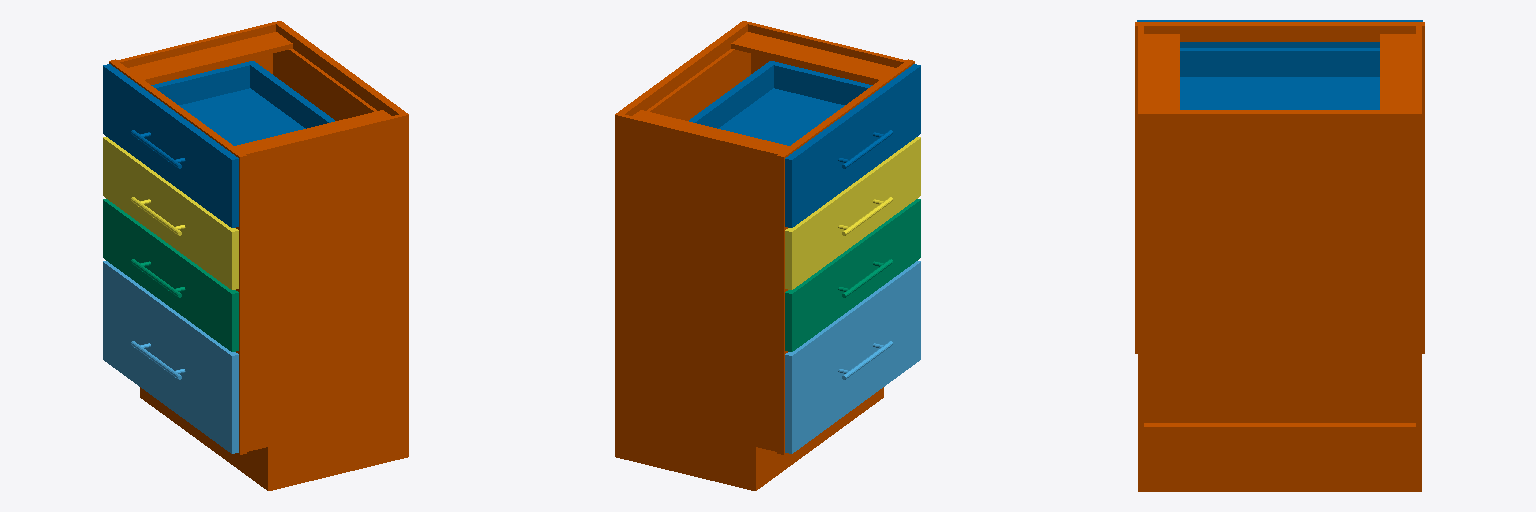
URDF robot description (partnet_1a9fa73ca819aa994da5feafe6f1c8fc):
<?xml version="1.0" encoding="utf-8"?>
<robot name="partnet_1a9fa73ca819aa994da5feafe6f1c8fc">
 <link name="base"/>
 <link name="link_0">
  <visual name="drawer_front-46">
   <origin xyz="0 0 0"/>
   <geometry>
    <mesh filename="textured_objs/original-55.obj"/>
   </geometry>
  </visual>
  <visual name="drawer_front-47">
   <origin xyz="0 0 0"/>
   <geometry>
    <mesh filename="textured_objs/original-43.obj"/>
   </geometry>
  </visual>
  <visual name="drawer_side-48">
   <origin xyz="0 0 0"/>
   <geometry>
    <mesh filename="textured_objs/original-42.obj"/>
   </geometry>
  </visual>
  <visual name="drawer_side-49">
   <origin xyz="0 0 0"/>
   <geometry>
    <mesh filename="textured_objs/original-47.obj"/>
   </geometry>
  </visual>
  <visual name="drawer_back-50">
   <origin xyz="0 0 0"/>
   <geometry>
    <mesh filename="textured_objs/original-48.obj"/>
   </geometry>
  </visual>
  <visual name="drawer_bottom-51">
   <origin xyz="0 0 0"/>
   <geometry>
    <mesh filename="textured_objs/original-46.obj"/>
   </geometry>
  </visual>
  <visual name="drawer_bottom-51">
   <origin xyz="0 0 0"/>
   <geometry>
    <mesh filename="textured_objs/original-45.obj"/>
   </geometry>
  </visual>
  <visual name="other_leaf-53">
   <origin xyz="0 0 0"/>
   <geometry>
    <mesh filename="textured_objs/original-49.obj"/>
   </geometry>
  </visual>
  <visual name="handle-45">
   <origin xyz="0 0 0"/>
   <geometry>
    <mesh filename="textured_objs/original-54.obj"/>
   </geometry>
  </visual>
  <visual name="handle-45">
   <origin xyz="0 0 0"/>
   <geometry>
    <mesh filename="textured_objs/original-53.obj"/>
   </geometry>
  </visual>
  <visual name="handle-45">
   <origin xyz="0 0 0"/>
   <geometry>
    <mesh filename="textured_objs/original-52.obj"/>
   </geometry>
  </visual>
  <collision>
   <origin rpy="-5.9604639446321516e-08 -5.960463589360858e-08 5.9604639446321516e-08" xyz="-5.960467319710006e-08 -3.5527141023169746e-15 -3.5527141023169746e-15"/>
   <geometry>
    <mesh filename="cvx_objs/link_0.obj"/>
   </geometry>
  </collision>
 </link>
 <joint name="joint_0" type="prismatic">
  <origin xyz="0 0 0"/>
  <axis xyz="0 0 1"/>
  <child link="link_0"/>
  <parent link="link_4"/>
  <limit lower="0" upper="0.55"/>
 </joint>
 <link name="link_1">
  <visual name="drawer_front-36">
   <origin xyz="0 0 0"/>
   <geometry>
    <mesh filename="textured_objs/original-87.obj"/>
   </geometry>
  </visual>
  <visual name="drawer_front-37">
   <origin xyz="0 0 0"/>
   <geometry>
    <mesh filename="textured_objs/original-75.obj"/>
   </geometry>
  </visual>
  <visual name="drawer_side-38">
   <origin xyz="0 0 0"/>
   <geometry>
    <mesh filename="textured_objs/original-74.obj"/>
   </geometry>
  </visual>
  <visual name="drawer_side-39">
   <origin xyz="0 0 0"/>
   <geometry>
    <mesh filename="textured_objs/original-79.obj"/>
   </geometry>
  </visual>
  <visual name="drawer_back-40">
   <origin xyz="0 0 0"/>
   <geometry>
    <mesh filename="textured_objs/original-80.obj"/>
   </geometry>
  </visual>
  <visual name="drawer_bottom-41">
   <origin xyz="0 0 0"/>
   <geometry>
    <mesh filename="textured_objs/original-78.obj"/>
   </geometry>
  </visual>
  <visual name="drawer_bottom-41">
   <origin xyz="0 0 0"/>
   <geometry>
    <mesh filename="textured_objs/original-77.obj"/>
   </geometry>
  </visual>
  <visual name="other_leaf-43">
   <origin xyz="0 0 0"/>
   <geometry>
    <mesh filename="textured_objs/original-81.obj"/>
   </geometry>
  </visual>
  <visual name="handle-35">
   <origin xyz="0 0 0"/>
   <geometry>
    <mesh filename="textured_objs/original-86.obj"/>
   </geometry>
  </visual>
  <visual name="handle-35">
   <origin xyz="0 0 0"/>
   <geometry>
    <mesh filename="textured_objs/original-84.obj"/>
   </geometry>
  </visual>
  <visual name="handle-35">
   <origin xyz="0 0 0"/>
   <geometry>
    <mesh filename="textured_objs/original-85.obj"/>
   </geometry>
  </visual>
  <collision>
   <origin rpy="-1.788138970226973e-07 5.960461457733879e-08 -1.788138970226973e-07" xyz="1.0658143577500345e-14 5.960470161880949e-08 -1.0658143577500345e-14"/>
   <geometry>
    <mesh filename="cvx_objs/link_1.obj"/>
   </geometry>
  </collision>
 </link>
 <joint name="joint_1" type="prismatic">
  <origin xyz="0 0 0"/>
  <axis xyz="0 0 1"/>
  <child link="link_1"/>
  <parent link="link_4"/>
  <limit lower="0" upper="0.55"/>
 </joint>
 <link name="link_2">
  <visual name="drawer_front-26">
   <origin xyz="0 0 0"/>
   <geometry>
    <mesh filename="textured_objs/original-59.obj"/>
   </geometry>
  </visual>
  <visual name="drawer_front-27">
   <origin xyz="0 0 0"/>
   <geometry>
    <mesh filename="textured_objs/original-71.obj"/>
   </geometry>
  </visual>
  <visual name="drawer_side-28">
   <origin xyz="0 0 0"/>
   <geometry>
    <mesh filename="textured_objs/original-58.obj"/>
   </geometry>
  </visual>
  <visual name="drawer_side-29">
   <origin xyz="0 0 0"/>
   <geometry>
    <mesh filename="textured_objs/original-63.obj"/>
   </geometry>
  </visual>
  <visual name="drawer_back-30">
   <origin xyz="0 0 0"/>
   <geometry>
    <mesh filename="textured_objs/original-64.obj"/>
   </geometry>
  </visual>
  <visual name="drawer_bottom-31">
   <origin xyz="0 0 0"/>
   <geometry>
    <mesh filename="textured_objs/original-62.obj"/>
   </geometry>
  </visual>
  <visual name="drawer_bottom-31">
   <origin xyz="0 0 0"/>
   <geometry>
    <mesh filename="textured_objs/original-61.obj"/>
   </geometry>
  </visual>
  <visual name="other_leaf-33">
   <origin xyz="0 0 0"/>
   <geometry>
    <mesh filename="textured_objs/original-65.obj"/>
   </geometry>
  </visual>
  <visual name="handle-25">
   <origin xyz="0 0 0"/>
   <geometry>
    <mesh filename="textured_objs/original-70.obj"/>
   </geometry>
  </visual>
  <visual name="handle-25">
   <origin xyz="0 0 0"/>
   <geometry>
    <mesh filename="textured_objs/original-68.obj"/>
   </geometry>
  </visual>
  <visual name="handle-25">
   <origin xyz="0 0 0"/>
   <geometry>
    <mesh filename="textured_objs/original-69.obj"/>
   </geometry>
  </visual>
  <collision>
   <origin rpy="-1.4901161238256638e-07 -2.9802320167249267e-08 2.980232460814138e-08" xyz="-5.960464477539063e-08 2.664535047342139e-15 2.9802320611338473e-08"/>
   <geometry>
    <mesh filename="cvx_objs/link_2.obj"/>
   </geometry>
  </collision>
 </link>
 <joint name="joint_2" type="prismatic">
  <origin xyz="0 0 0"/>
  <axis xyz="0 0 1"/>
  <child link="link_2"/>
  <parent link="link_4"/>
  <limit lower="0" upper="0.55"/>
 </joint>
 <link name="link_3">
  <visual name="other_leaf-17">
   <origin xyz="0 0 0"/>
   <geometry>
    <mesh filename="textured_objs/original-33.obj"/>
   </geometry>
  </visual>
  <visual name="drawer_front-18">
   <origin xyz="0 0 0"/>
   <geometry>
    <mesh filename="textured_objs/original-27.obj"/>
   </geometry>
  </visual>
  <visual name="drawer_front-19">
   <origin xyz="0 0 0"/>
   <geometry>
    <mesh filename="textured_objs/original-39.obj"/>
   </geometry>
  </visual>
  <visual name="drawer_side-20">
   <origin xyz="0 0 0"/>
   <geometry>
    <mesh filename="textured_objs/original-31.obj"/>
   </geometry>
  </visual>
  <visual name="drawer_side-21">
   <origin xyz="0 0 0"/>
   <geometry>
    <mesh filename="textured_objs/original-26.obj"/>
   </geometry>
  </visual>
  <visual name="drawer_back-22">
   <origin xyz="0 0 0"/>
   <geometry>
    <mesh filename="textured_objs/original-32.obj"/>
   </geometry>
  </visual>
  <visual name="drawer_bottom-23">
   <origin xyz="0 0 0"/>
   <geometry>
    <mesh filename="textured_objs/original-30.obj"/>
   </geometry>
  </visual>
  <visual name="drawer_bottom-23">
   <origin xyz="0 0 0"/>
   <geometry>
    <mesh filename="textured_objs/original-29.obj"/>
   </geometry>
  </visual>
  <visual name="handle-9">
   <origin xyz="0 0 0"/>
   <geometry>
    <mesh filename="textured_objs/original-38.obj"/>
   </geometry>
  </visual>
  <visual name="handle-9">
   <origin xyz="0 0 0"/>
   <geometry>
    <mesh filename="textured_objs/original-36.obj"/>
   </geometry>
  </visual>
  <visual name="handle-9">
   <origin xyz="0 0 0"/>
   <geometry>
    <mesh filename="textured_objs/original-37.obj"/>
   </geometry>
  </visual>
  <collision>
   <origin rpy="-1.192092611290865e-07 1.1920926112908565e-07 -7.105423969470879e-15" xyz="5.960470161880949e-08 -4.235164736271502e-22 -7.105429051666896e-15"/>
   <geometry>
    <mesh filename="cvx_objs/link_3.obj"/>
   </geometry>
  </collision>
 </link>
 <joint name="joint_3" type="prismatic">
  <origin xyz="0 0 0"/>
  <axis xyz="0 0 1"/>
  <child link="link_3"/>
  <parent link="link_4"/>
  <limit lower="0" upper="0.55"/>
 </joint>
 <link name="link_4">
  <visual name="frame_vertical_bar-75">
   <origin xyz="0 0 0"/>
   <geometry>
    <mesh filename="textured_objs/original-3.obj"/>
   </geometry>
  </visual>
  <visual name="frame_vertical_bar-76">
   <origin xyz="0 0 0"/>
   <geometry>
    <mesh filename="textured_objs/original-7.obj"/>
   </geometry>
  </visual>
  <visual name="frame_horizontal_bar-77">
   <origin xyz="0 0 0"/>
   <geometry>
    <mesh filename="textured_objs/original-21.obj"/>
   </geometry>
  </visual>
  <visual name="frame_horizontal_bar-78">
   <origin xyz="0 0 0"/>
   <geometry>
    <mesh filename="textured_objs/original-20.obj"/>
   </geometry>
  </visual>
  <visual name="frame_horizontal_bar-79">
   <origin xyz="0 0 0"/>
   <geometry>
    <mesh filename="textured_objs/original-6.obj"/>
   </geometry>
  </visual>
  <visual name="frame_horizontal_bar-80">
   <origin xyz="0 0 0"/>
   <geometry>
    <mesh filename="textured_objs/original-22.obj"/>
   </geometry>
  </visual>
  <visual name="frame_horizontal_bar-81">
   <origin xyz="0 0 0"/>
   <geometry>
    <mesh filename="textured_objs/original-17.obj"/>
   </geometry>
  </visual>
  <visual name="vertical_side_panel-82">
   <origin xyz="0 0 0"/>
   <geometry>
    <mesh filename="textured_objs/original-11.obj"/>
   </geometry>
  </visual>
  <visual name="vertical_side_panel-82">
   <origin xyz="0 0 0"/>
   <geometry>
    <mesh filename="textured_objs/original-10.obj"/>
   </geometry>
  </visual>
  <visual name="vertical_side_panel-83">
   <origin xyz="0 0 0"/>
   <geometry>
    <mesh filename="textured_objs/original-15.obj"/>
   </geometry>
  </visual>
  <visual name="vertical_side_panel-83">
   <origin xyz="0 0 0"/>
   <geometry>
    <mesh filename="textured_objs/original-14.obj"/>
   </geometry>
  </visual>
  <visual name="back_panel-84">
   <origin xyz="0 0 0"/>
   <geometry>
    <mesh filename="textured_objs/original-5.obj"/>
   </geometry>
  </visual>
  <visual name="bottom_panel-85">
   <origin xyz="0 0 0"/>
   <geometry>
    <mesh filename="textured_objs/original-2.obj"/>
   </geometry>
  </visual>
  <visual name="bottom_panel-85">
   <origin xyz="0 0 0"/>
   <geometry>
    <mesh filename="textured_objs/original-8.obj"/>
   </geometry>
  </visual>
  <visual name="frame_horizontal_bar-86">
   <origin xyz="0 0 0"/>
   <geometry>
    <mesh filename="textured_objs/original-23.obj"/>
   </geometry>
  </visual>
  <visual name="frame_horizontal_bar-87">
   <origin xyz="0 0 0"/>
   <geometry>
    <mesh filename="textured_objs/original-4.obj"/>
   </geometry>
  </visual>
  <visual name="other_leaf-89">
   <origin xyz="0 0 0"/>
   <geometry>
    <mesh filename="textured_objs/original-88.obj"/>
   </geometry>
  </visual>
  <visual name="base_side_panel-55">
   <origin xyz="0 0 0"/>
   <geometry>
    <mesh filename="textured_objs/original-16.obj"/>
   </geometry>
  </visual>
  <visual name="base_side_panel-56">
   <origin xyz="0 0 0"/>
   <geometry>
    <mesh filename="textured_objs/original-18.obj"/>
   </geometry>
  </visual>
  <visual name="base_side_panel-57">
   <origin xyz="0 0 0"/>
   <geometry>
    <mesh filename="textured_objs/original-12.obj"/>
   </geometry>
  </visual>
  <visual name="base_side_panel-58">
   <origin xyz="0 0 0"/>
   <geometry>
    <mesh filename="textured_objs/original-19.obj"/>
   </geometry>
  </visual>
  <collision>
   <origin rpy="0.0 -0.0 0.0" xyz="-0.0 -0.0 -0.0"/>
   <geometry>
    <mesh filename="cvx_objs/link_4.obj"/>
   </geometry>
  </collision>
 </link>
 <joint name="joint_4" type="fixed">
  <origin rpy="1.570796326794897 0 -1.570796326794897" xyz="0 0 0"/>
  <child link="link_4"/>
  <parent link="base"/>
 </joint>
</robot>

--- Facts derived from the render (not from the file) ---
The picture shows the robot from 3 angles, left to right: view 1: azimuth 30°, elevation 25°; view 2: azimuth 150°, elevation 25°; view 3: azimuth 270°, elevation 25°; orthographic projection.
Robot: partnet_1a9fa73ca819aa994da5feafe6f1c8fc — 6 links, 5 joints (4 prismatic, 1 fixed); root link base; default pose: all joints at 0.
Visible links, largest first — view 1: link_4, link_3, link_0, link_1, link_2; view 2: link_4, link_3, link_0, link_1, link_2; view 3: link_4, link_3.
Link boxes in pixels (x1=…): link_4: x1=109, y1=21, x2=408, y2=490; link_3: x1=103, y1=61, x2=334, y2=227; link_0: x1=103, y1=261, x2=238, y2=453; link_1: x1=103, y1=199, x2=238, y2=351; link_2: x1=103, y1=137, x2=238, y2=289; link_4: x1=615, y1=21, x2=914, y2=490; link_3: x1=689, y1=61, x2=920, y2=227; link_0: x1=785, y1=261, x2=920, y2=453; link_1: x1=785, y1=199, x2=920, y2=351; link_2: x1=785, y1=137, x2=920, y2=289; link_4: x1=1135, y1=22, x2=1424, y2=491; link_3: x1=1137, y1=20, x2=1422, y2=109.
Bounding box of the posed robot: 0.9471 × 1.13 × 1.62 m (x, y, z).
Meshes: 65 distinct files referenced, 65 mesh visuals loaded (65 OBJ).